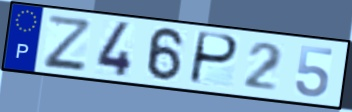2: (242, 41, 285, 93)
4: (94, 19, 135, 79)
5: (293, 43, 335, 99)
6: (144, 25, 187, 84)
P: (186, 30, 241, 88)
Z: (42, 13, 91, 71)
